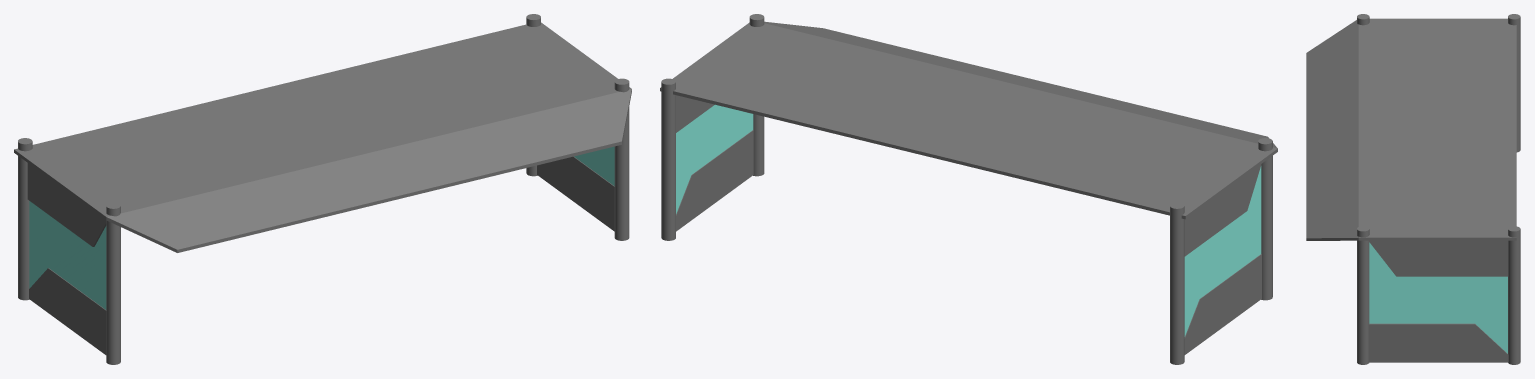
Rendered from Building_UV_0028.obj.
3 views of the same model, side by side, from view 1: azimuth 30°, elevation 25°; view 2: azimuth 150°, elevation 25°; view 3: azimuth 270°, elevation 25° (orthographic). The views are drawn at different scales.
Visible parts, largest first — view 1: Building_UV_00028; view 2: Building_UV_00028; view 3: Building_UV_00028.
Part boxes in pixels (x1,y1,x2,y2): Building_UV_00028: (14, 14, 631, 364); Building_UV_00028: (660, 14, 1277, 364); Building_UV_00028: (1306, 14, 1520, 364).
Size of the model in its own units: 440 by 125 by 181.
